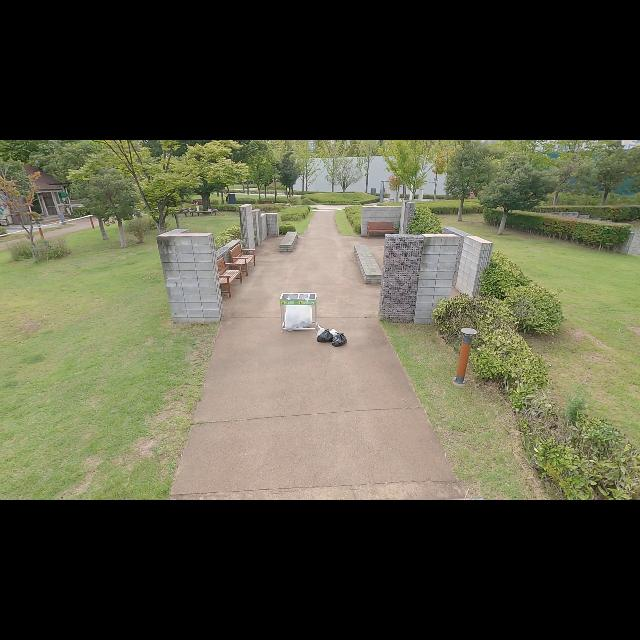trash: (329, 332, 348, 348), (316, 328, 334, 344), (327, 327, 341, 343), (315, 324, 327, 338)
